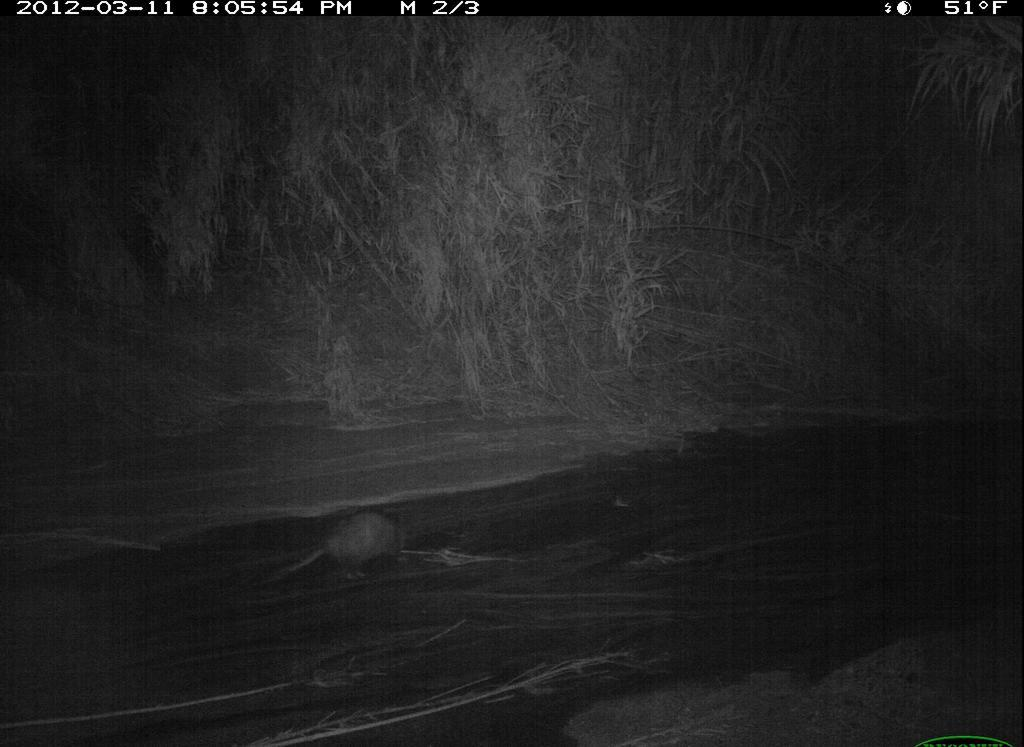opossum: (265, 504, 422, 591)
